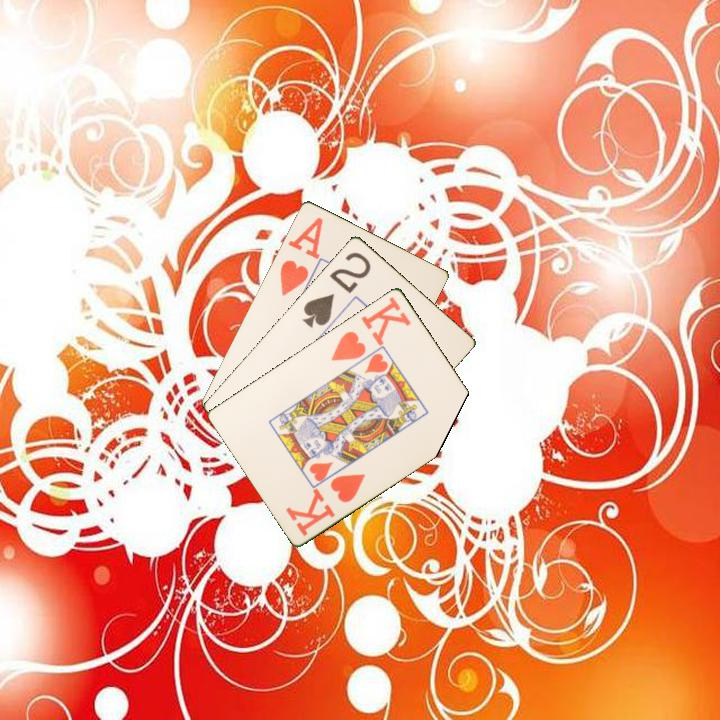2s: (299, 248, 374, 331)
Ah: (276, 213, 326, 299)
Kh: (327, 292, 414, 364), (282, 470, 368, 539)
